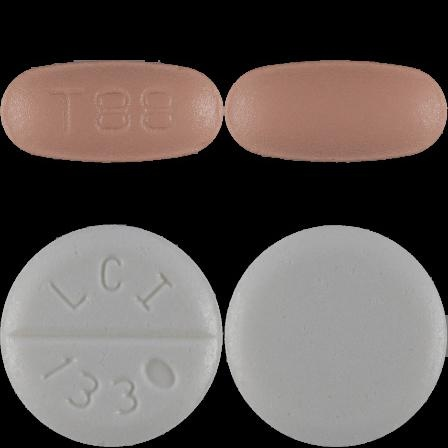61919-092: (0, 0, 224, 224)
